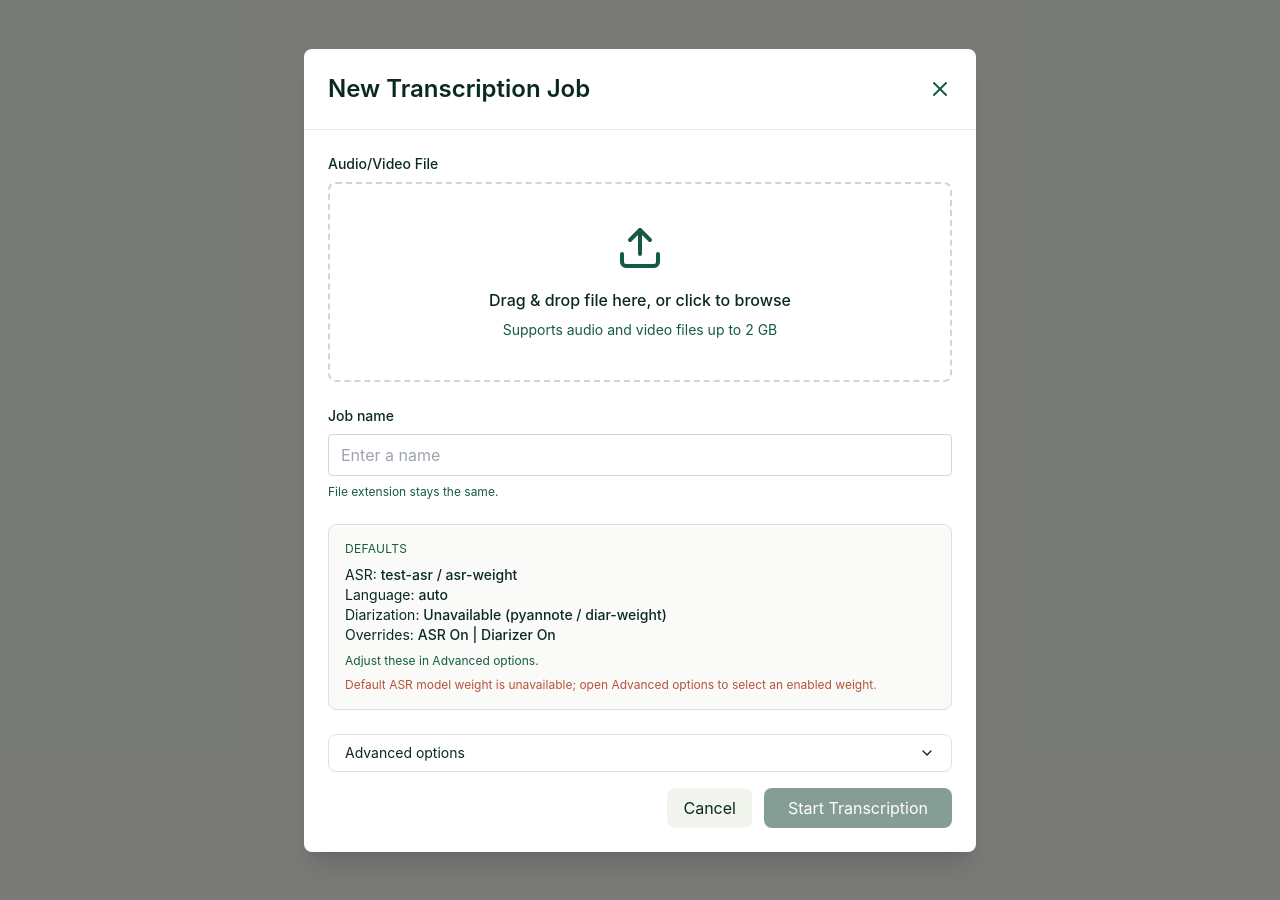
Test: NewJobModal › disables model selection and submit when registry is empty
Step 1. Click the button with test id "advanced-toggle" → click(405, 752), box [328, 734, 952, 772]
(page scrolled)
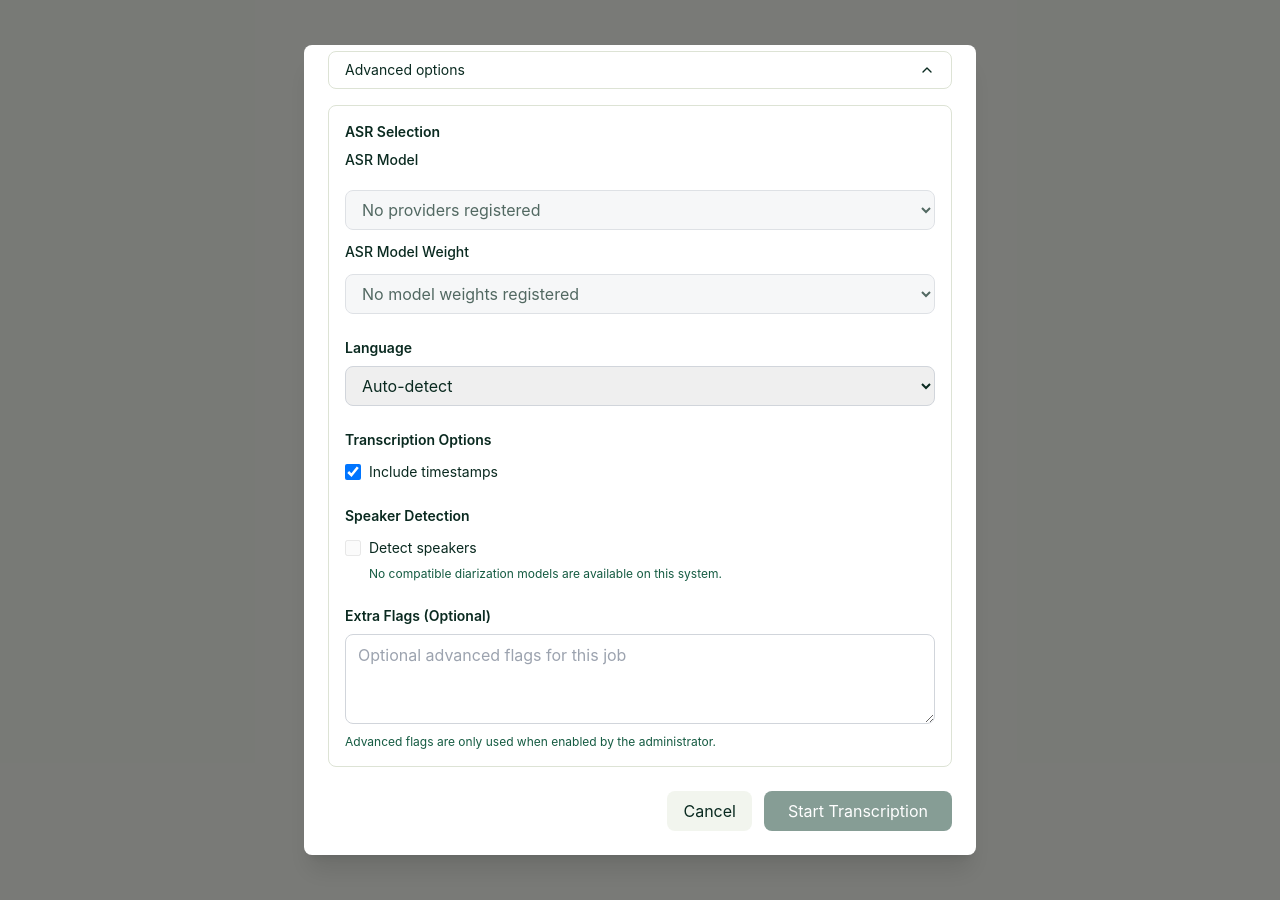
Expected: the button with test id "start-transcription-btn" is disabled, [764, 791, 952, 831]
Expected: the element with test id "advanced-panel" is shown, [328, 105, 952, 767]
Expected: the dropdown with test id "model-select" is disabled, [345, 274, 935, 314]
